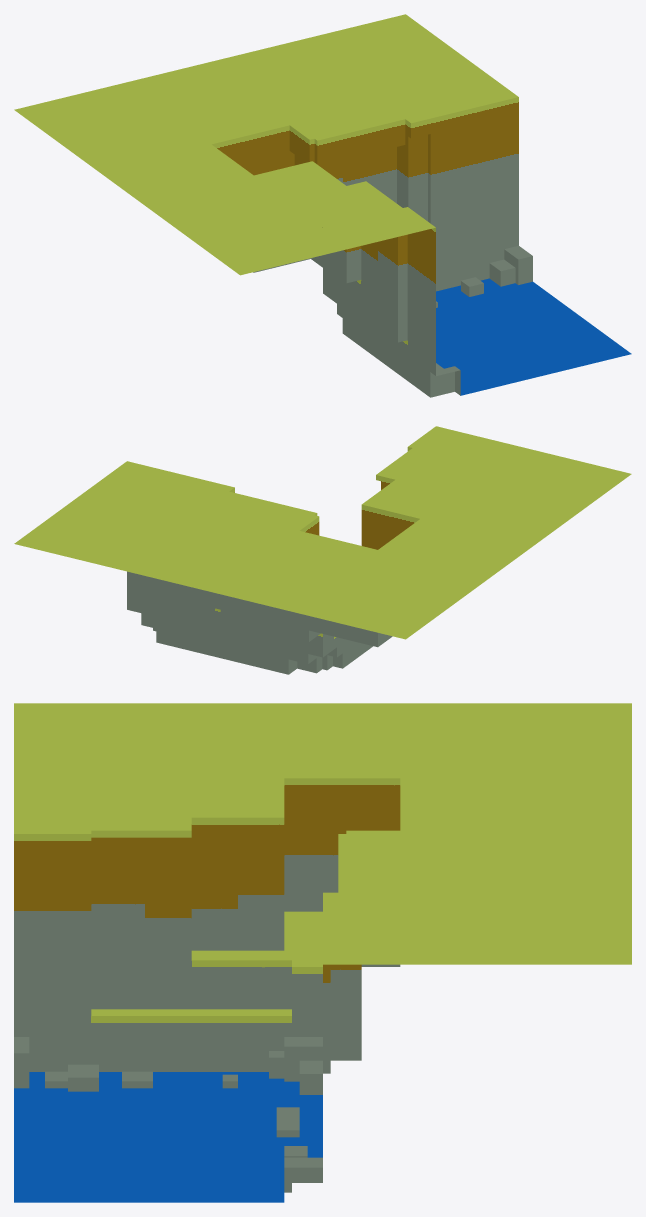
Rendered from MMWM(2).glb.
The picture shows the model from 3 angles, top to bottom: view 1: azimuth 30°, elevation 25°; view 2: azimuth 150°, elevation 25°; view 3: azimuth 270°, elevation 25°; orthographic projection. The views are drawn at different scales.
Visible parts, largest first — view 1: model_0.023; view 2: model_0.023; view 3: model_0.023.
Part boxes in pixels (bbox=[...]): model_0.023: bbox=[14, 14, 631, 397]; model_0.023: bbox=[14, 426, 631, 674]; model_0.023: bbox=[14, 703, 631, 1202].
Size of the model in its own units: 80 by 34 by 80.
1 material, 1 textured.
